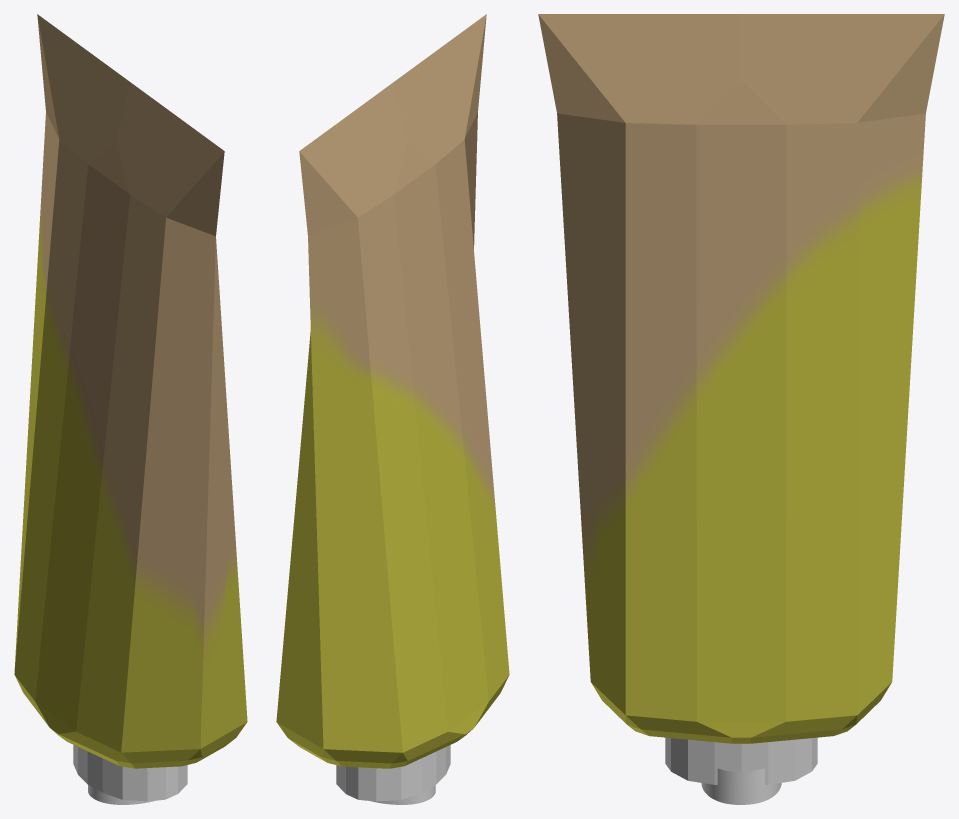
File: Sunscreen.fbx
The picture shows the model from 3 angles, left to right: view 1: azimuth 30°, elevation 25°; view 2: azimuth 150°, elevation 25°; view 3: azimuth 270°, elevation 25°; orthographic projection. The views are drawn at different scales.
Parts seen in each view (by area): view 1: Cube, Plane, BézierCurve; view 2: Cube, Plane, BézierCurve; view 3: Cube, Plane, BézierCurve.
Boxes of the visible parts, x1,y1,x2,y2 form: Cube: [14, 14, 247, 768]; Plane: [73, 745, 187, 801]; BézierCurve: [88, 785, 155, 804]; Cube: [276, 14, 509, 768]; Plane: [336, 745, 450, 801]; BézierCurve: [370, 785, 435, 804]; Cube: [538, 14, 944, 744]; Plane: [665, 737, 817, 784]; BézierCurve: [701, 768, 781, 804].
Size of the model in its own units: 360 by 1577 by 759.
